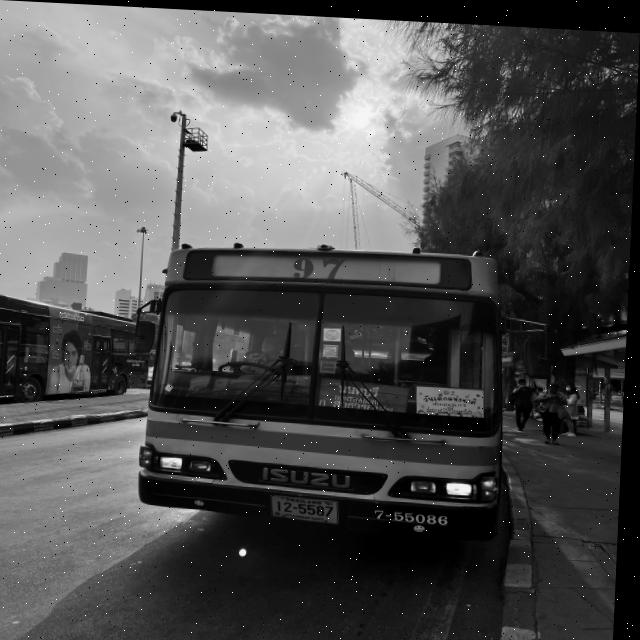BMTA-bus: (140, 235, 520, 537)
Bus-Line-Number: (286, 249, 354, 281)
Destination-Sign-Normal: (319, 375, 412, 409)
TSB-Bus: (0, 295, 148, 407)
